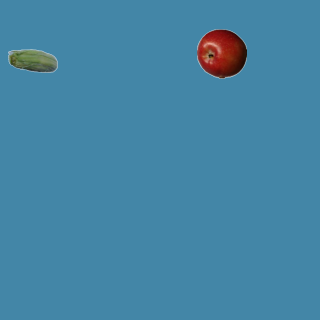Apple Braeburn: (196, 28, 246, 78)
Corn Husk: (7, 37, 57, 87)
